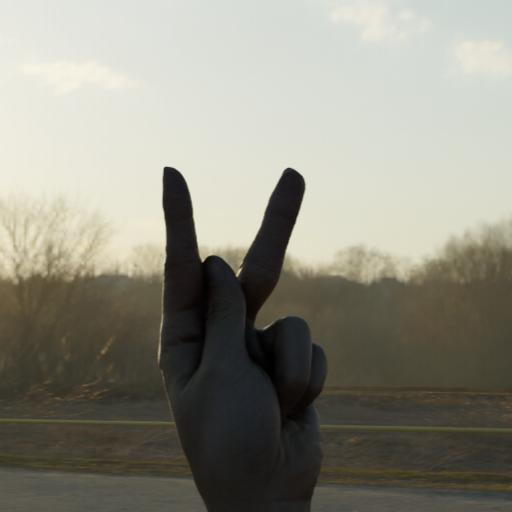K: (138, 140, 348, 496)
